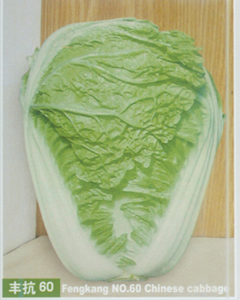cabbage: (20, 16, 221, 276)
